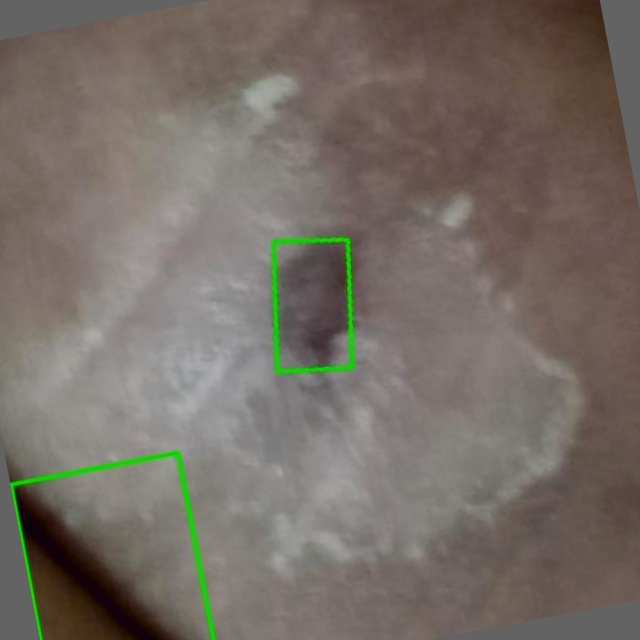Tinea Corporis: (11, 452, 213, 639), (274, 240, 353, 371)
